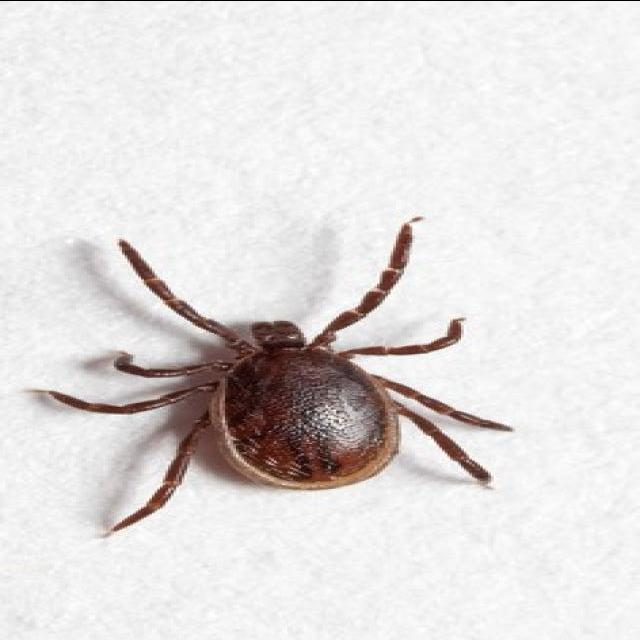Ixodes Ricinus-M: (54, 217, 513, 530)
